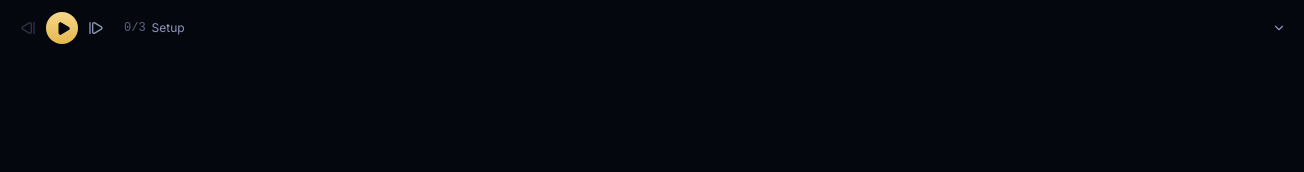
Test case: StepControls › disables back buttons at the start
What coordinates should you click on to do the following:
click the button titled "Playback: scrub, speed, jump to a step"
I would click on:
 (168, 28)
Its box is x1=118 y1=16 x2=1292 y2=40.
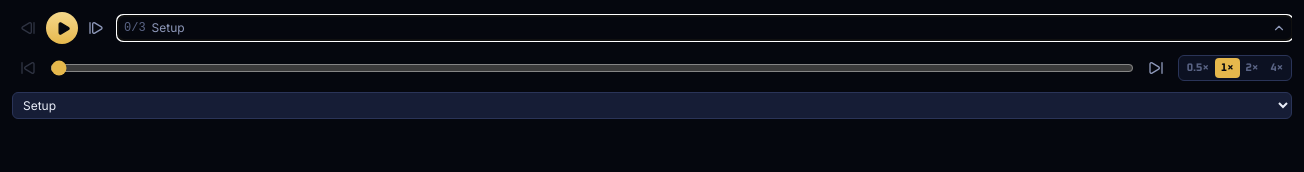
Expected: the button titled "Previous (←)" is disabled, x1=12 y1=12 x2=44 y2=44
Expected: the button titled "First (Home)" is disabled, x1=12 y1=52 x2=44 y2=84
